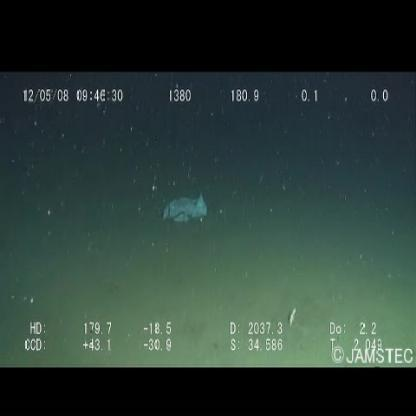Rác: (161, 191, 208, 225)
